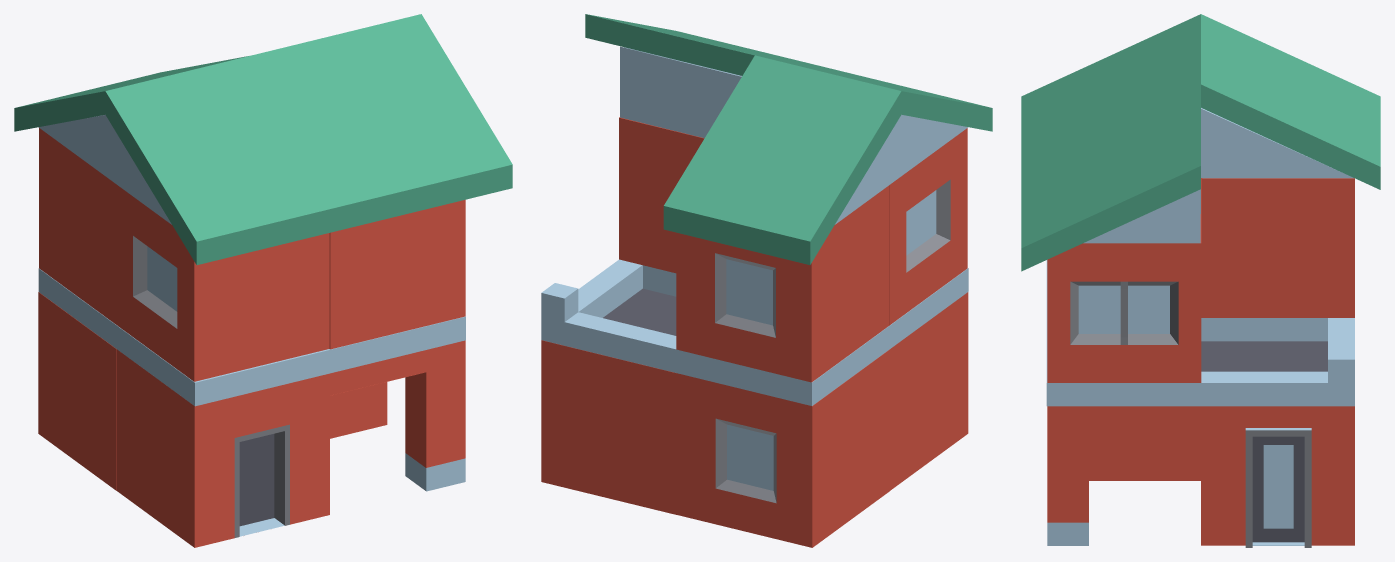
The model's file is [Aslah Mohamad Bahari] - Basic Building.fbx.
The picture shows the model from 3 angles, left to right: view 1: azimuth 30°, elevation 25°; view 2: azimuth 150°, elevation 25°; view 3: azimuth 270°, elevation 25°; orthographic projection.
Parts seen in each view (by area): view 1: Cube; view 2: Cube; view 3: Cube.
Boxes of the visible parts, box(x1,y1,x2,y2) form: Cube: box(14, 14, 512, 547); Cube: box(541, 14, 992, 547); Cube: box(1021, 14, 1380, 547).
Size of the model in its own units: 1400 by 1704 by 1400.
